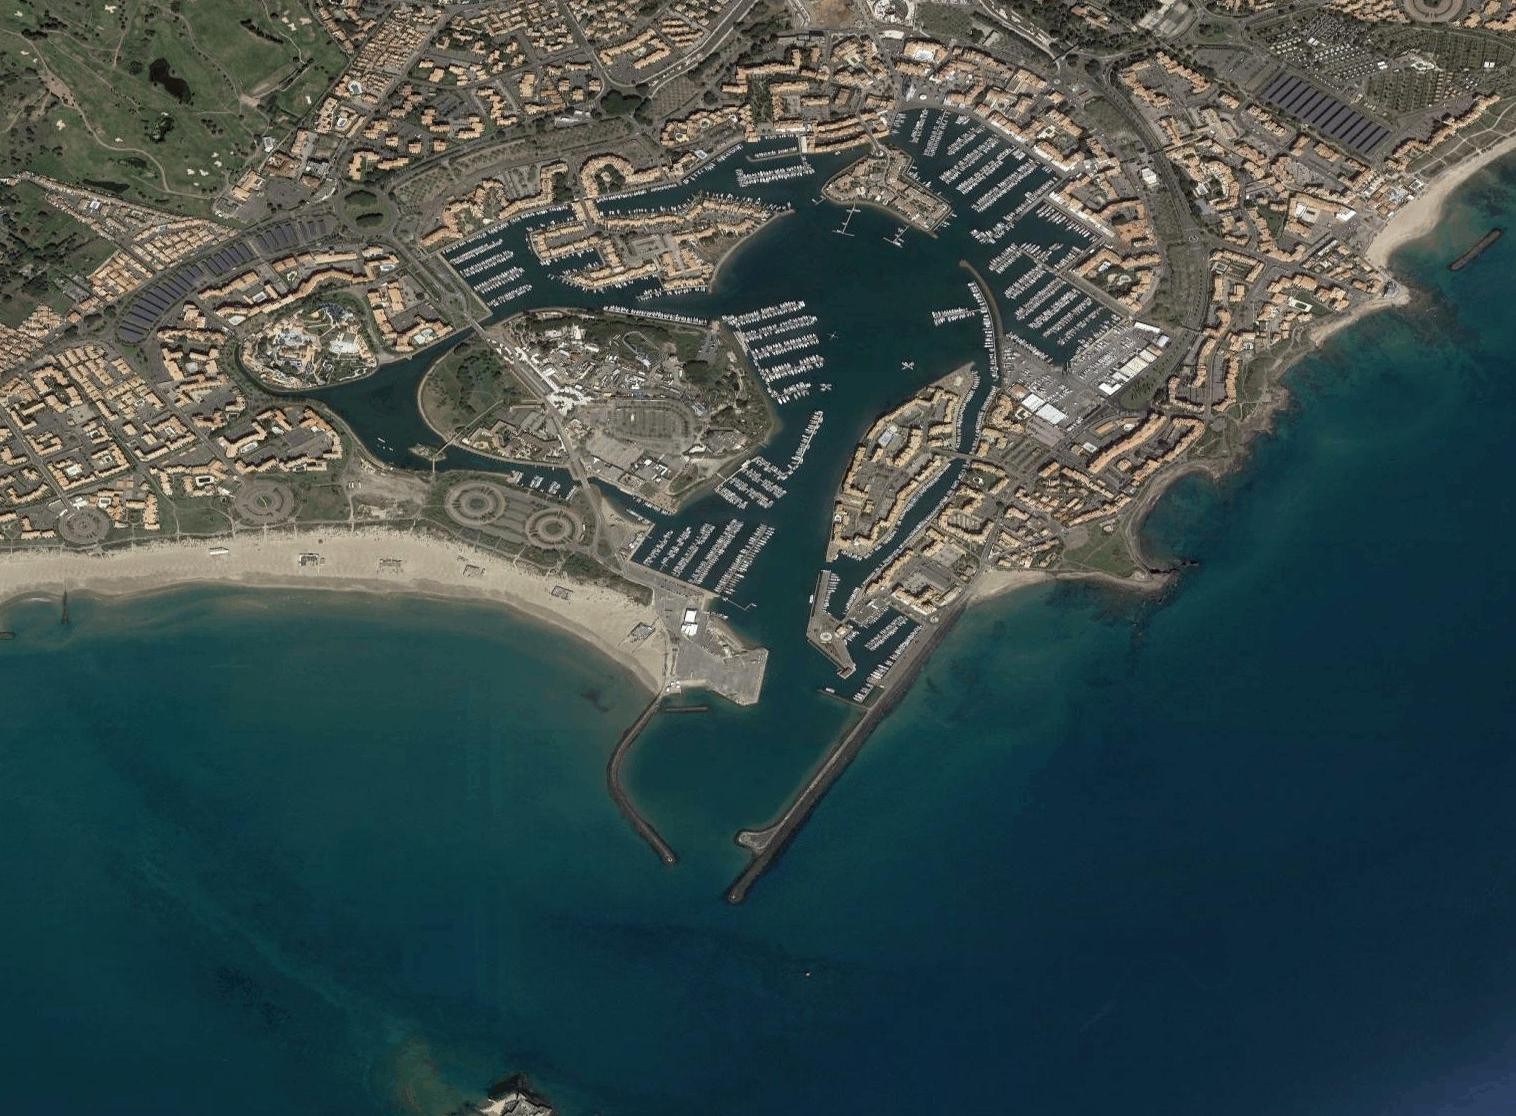harbor: (259, 68, 1306, 941)
